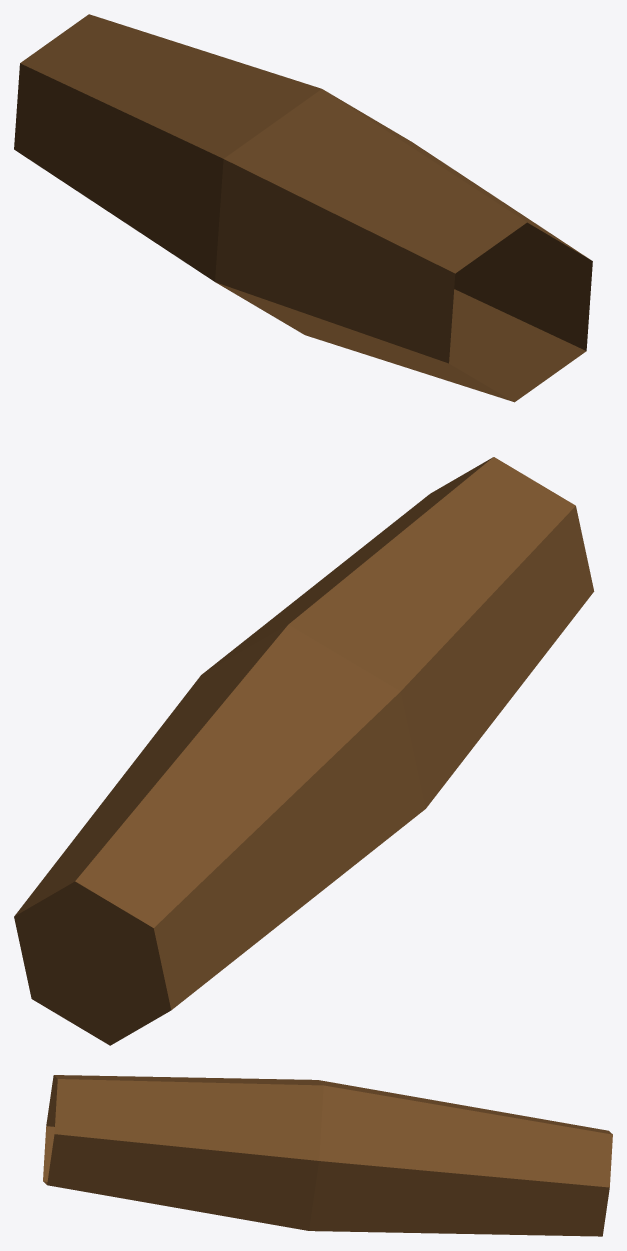
Rendered from Sheriff_Cigar.fbx.
The picture shows the model from 3 angles, top to bottom: view 1: azimuth 30°, elevation 25°; view 2: azimuth 150°, elevation 25°; view 3: azimuth 270°, elevation 25°; orthographic projection. The views are drawn at different scales.
Visible parts, largest first — view 1: Sheriff_Cigar; view 2: Sheriff_Cigar; view 3: Sheriff_Cigar.
Part boxes in pixels (x1=…): Sheriff_Cigar: x1=14, y1=14, x2=592, y2=402; Sheriff_Cigar: x1=14, y1=457, x2=594, y2=1045; Sheriff_Cigar: x1=43, y1=1075, x2=612, y2=1236.
Bounding box in the file's own units: 1.93 × 2.27 × 7.34.
